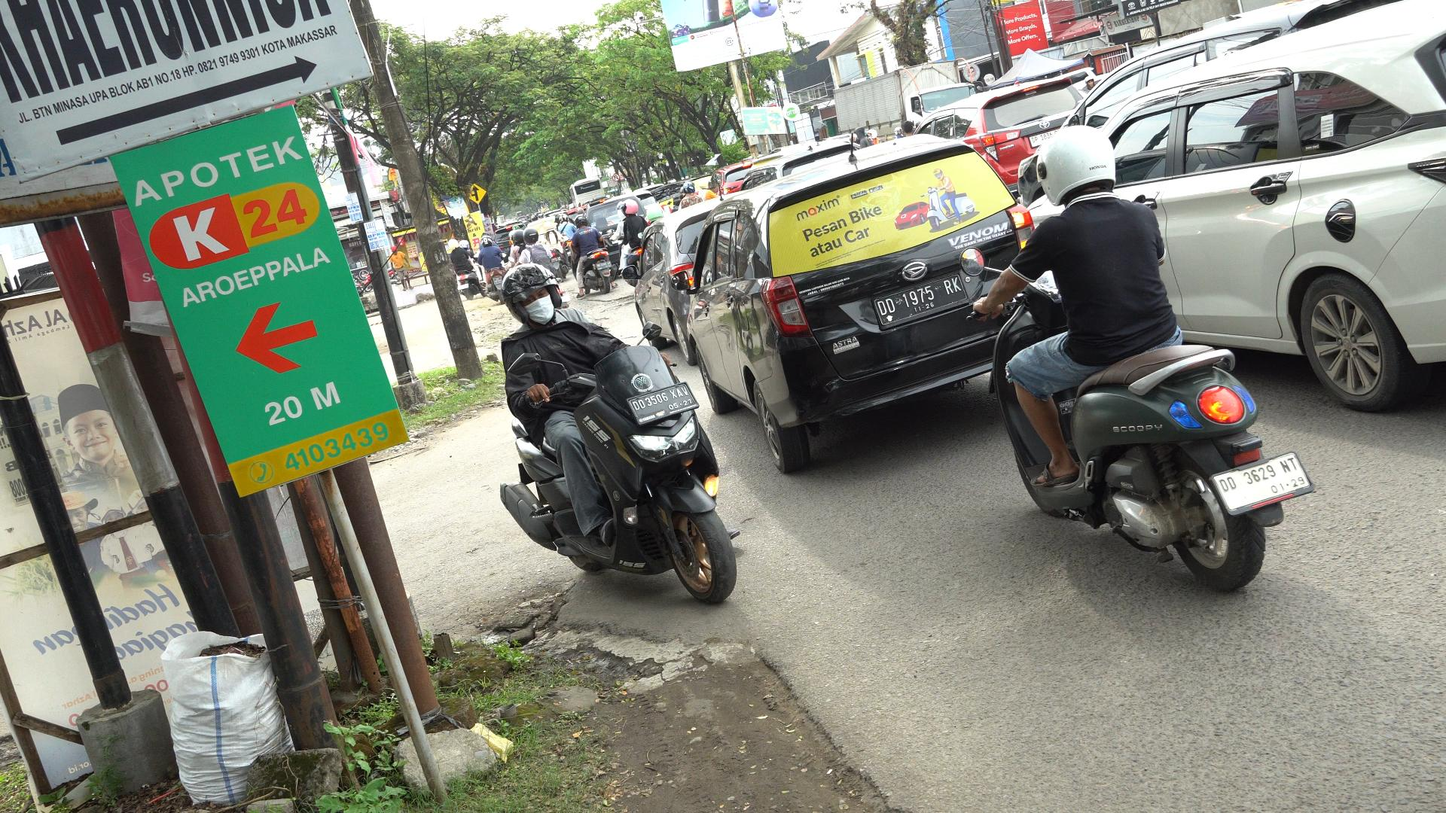number-plate: (628, 380, 700, 424)
